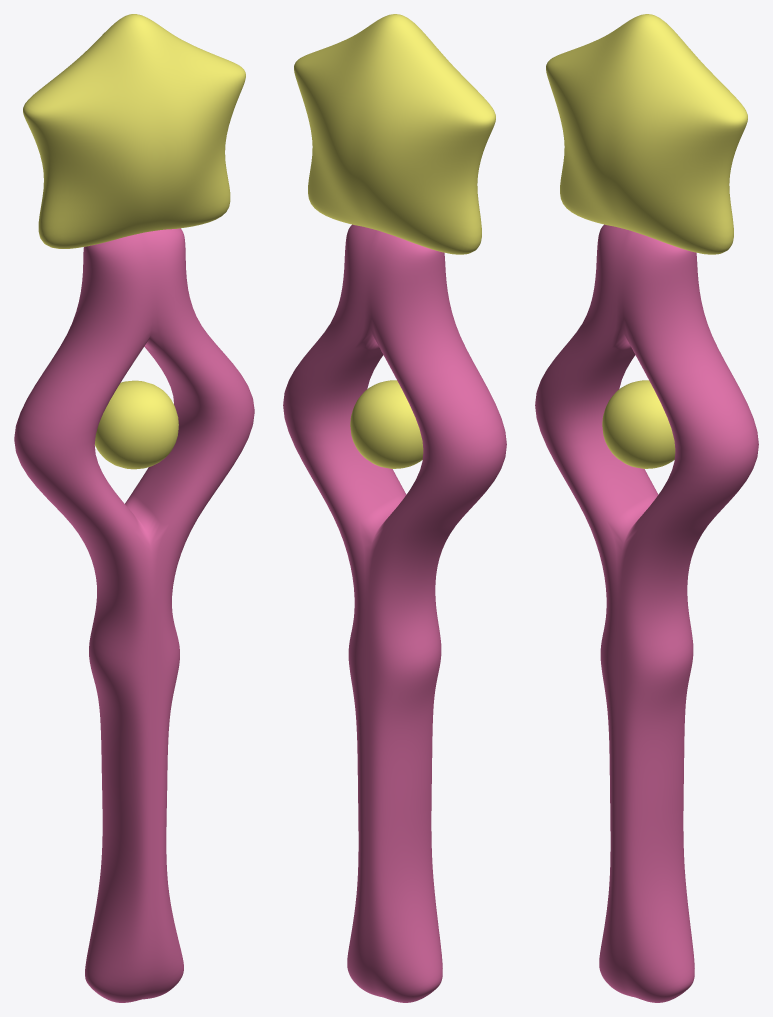
The model's file is wand.fbx.
The picture shows the model from 3 angles, left to right: view 1: azimuth 30°, elevation 25°; view 2: azimuth 150°, elevation 25°; view 3: azimuth 330°, elevation 25°; orthographic projection.
Visible parts, largest first — view 1: sol.002; view 2: sol.002; view 3: sol.002.
Part boxes in pixels (left/top/right/bottom): sol.002: left=14, top=14, right=254, bottom=1002; sol.002: left=283, top=14, right=506, bottom=1002; sol.002: left=535, top=14, right=758, bottom=1002.
Size of the model in its own units: 6.21 by 26.5 by 3.39.
